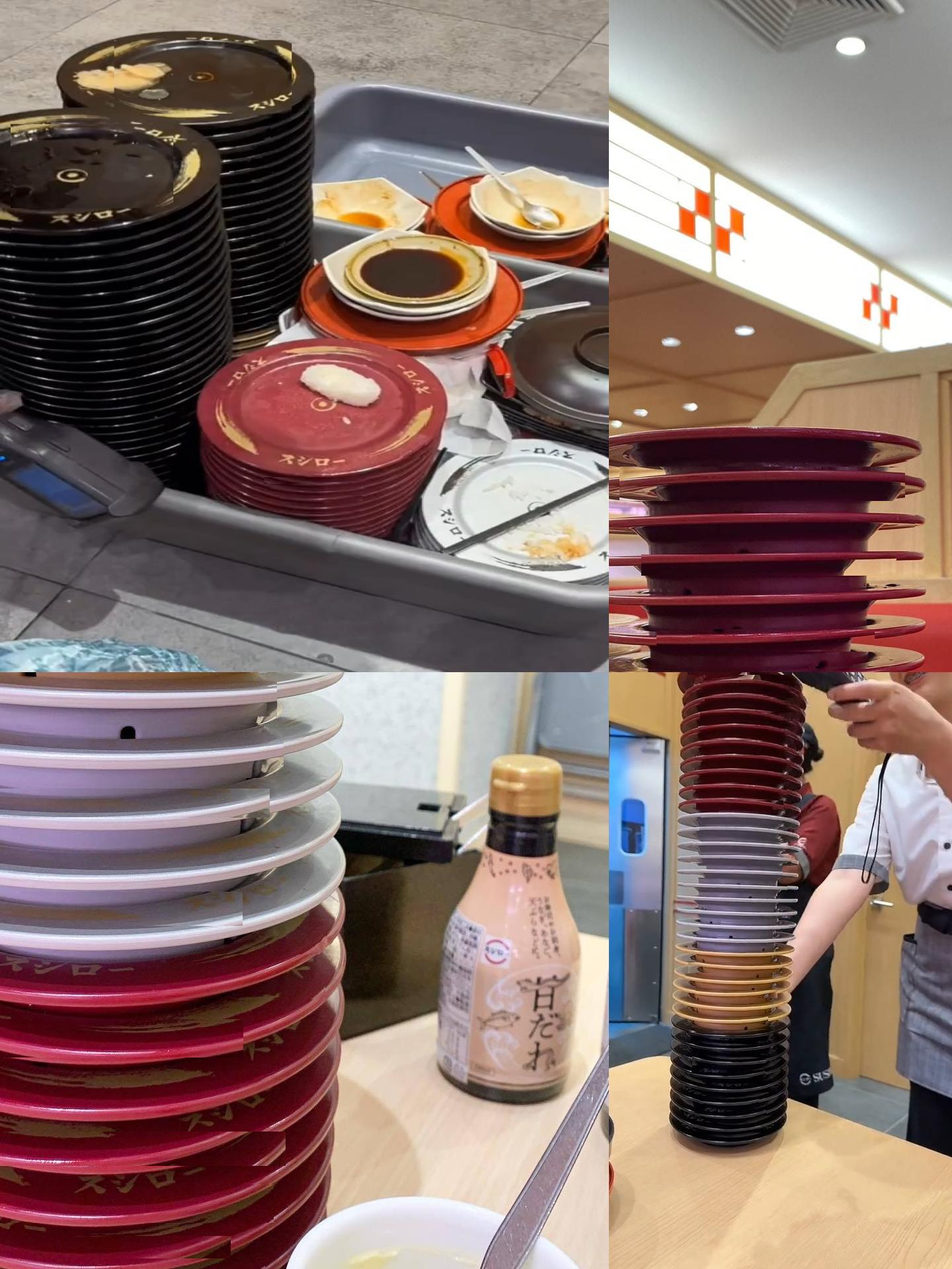Janback: (103, 36, 303, 119), (5, 121, 180, 211), (9, 227, 145, 240), (7, 255, 154, 265), (4, 269, 131, 280), (685, 1042, 781, 1053), (10, 243, 138, 251), (680, 1031, 782, 1041), (689, 1132, 774, 1144), (688, 1055, 771, 1067), (15, 284, 135, 292), (211, 126, 274, 140), (19, 306, 124, 314), (684, 1083, 768, 1092), (225, 142, 292, 153), (235, 267, 277, 283), (688, 1070, 769, 1078), (690, 1109, 771, 1117), (691, 1121, 769, 1129), (37, 349, 113, 357), (41, 360, 124, 367), (235, 249, 287, 260), (30, 330, 121, 336), (38, 340, 147, 345), (694, 1097, 765, 1104), (32, 321, 124, 326), (231, 186, 281, 195), (20, 296, 127, 300), (237, 238, 289, 246), (237, 201, 282, 210), (247, 313, 275, 326), (245, 306, 282, 315), (241, 296, 276, 305), (226, 168, 278, 174), (238, 287, 277, 295), (229, 158, 272, 164), (235, 262, 286, 267), (233, 214, 270, 220), (233, 180, 282, 184), (230, 225, 265, 230), (234, 282, 282, 285)
Jangold: (684, 975, 789, 989), (684, 962, 787, 974), (694, 1002, 787, 1014), (679, 952, 794, 961), (691, 990, 782, 999), (700, 1016, 774, 1026)
Janred: (241, 353, 427, 458), (0, 954, 327, 1000), (609, 418, 937, 461), (0, 1079, 299, 1122), (609, 509, 918, 549), (0, 1130, 302, 1169), (609, 465, 917, 503), (0, 1184, 275, 1223), (0, 1018, 256, 1059), (622, 589, 929, 612), (627, 554, 911, 578), (638, 628, 894, 654), (0, 1234, 251, 1260), (697, 726, 805, 740), (685, 771, 793, 785), (686, 684, 810, 696), (690, 783, 789, 798), (702, 741, 800, 756), (695, 756, 795, 767), (692, 800, 788, 811), (260, 477, 371, 485), (698, 698, 801, 706), (695, 713, 798, 721), (276, 496, 367, 502), (268, 488, 368, 492), (322, 516, 372, 522), (337, 521, 384, 527), (310, 511, 370, 514), (277, 506, 358, 508)
Janwhite: (0, 724, 287, 779), (0, 677, 306, 719), (0, 832, 321, 872), (0, 889, 266, 929), (0, 787, 288, 819), (686, 865, 788, 879), (687, 918, 790, 931), (696, 827, 796, 839), (690, 841, 790, 853), (681, 882, 790, 893), (689, 896, 792, 906), (688, 855, 794, 864), (688, 932, 780, 942), (696, 816, 787, 825), (691, 909, 790, 915)
